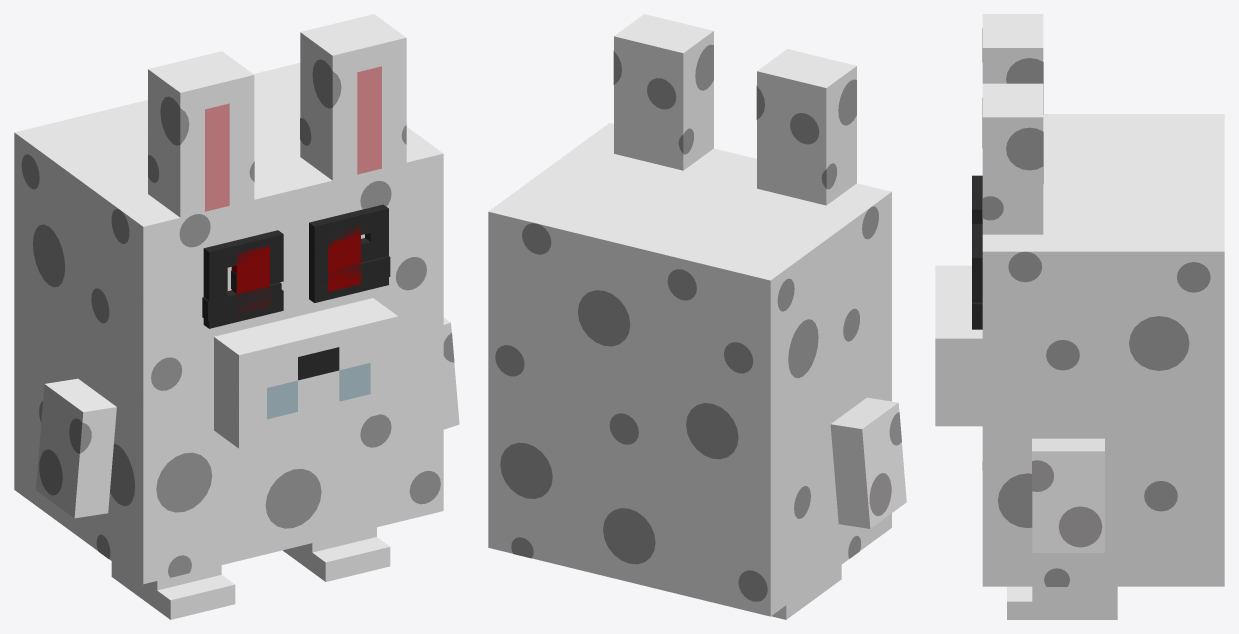
3 renders of one model, left to right at view 1: azimuth 30°, elevation 25°; view 2: azimuth 150°, elevation 25°; view 3: azimuth 270°, elevation 25°, orthographic. The views are drawn at different scales.
Parts seen in each view (by area): view 1: Ch_25, Ch_25_Ear, Ch_25_Hand_L (×2), Ch_25_Eye_03_R, Ch_25_Leg_L, Ch_25_Eye_03_L, Ch_25_Leg_R, Ch_25_Hand_R; view 2: Ch_25, Ch_25_Ear, Ch_25_Hand_L (×2), Ch_25_Leg_L; view 3: Ch_25, Ch_25_Ear, Ch_25_Hand_R, Ch_25_Leg_R, Ch_25_Eye_03_R, Ch_25_Eye_03_L.
Boxes of the visible parts, <box> form: Ch_25: <box>14,63,443,584</box>; Ch_25_Ear: <box>148,14,406,217</box>; Ch_25_Hand_L (×2): <box>36,378,116,518</box>; Ch_25_Eye_03_R: <box>309,204,388,302</box>; Ch_25_Leg_L: <box>111,561,235,619</box>; Ch_25_Eye_03_L: <box>203,230,283,328</box>; Ch_25_Leg_R: <box>283,527,390,581</box>; Ch_25_Hand_R: <box>443,317,459,429</box>; Ch_25: <box>488,123,891,616</box>; Ch_25_Ear: <box>613,14,856,205</box>; Ch_25_Hand_L (×2): <box>830,397,906,528</box>; Ch_25_Leg_L: <box>771,565,841,619</box>; Ch_25: <box>935,114,1224,586</box>; Ch_25_Ear: <box>982,14,1043,234</box>; Ch_25_Hand_R: <box>1032,438,1104,552</box>; Ch_25_Leg_R: <box>1007,586,1117,619</box>; Ch_25_Eye_03_R: <box>972,224,982,329</box>; Ch_25_Eye_03_L: <box>972,175,982,223</box>.
Size of the model in its own units: 8.64 by 11.53 by 6.
